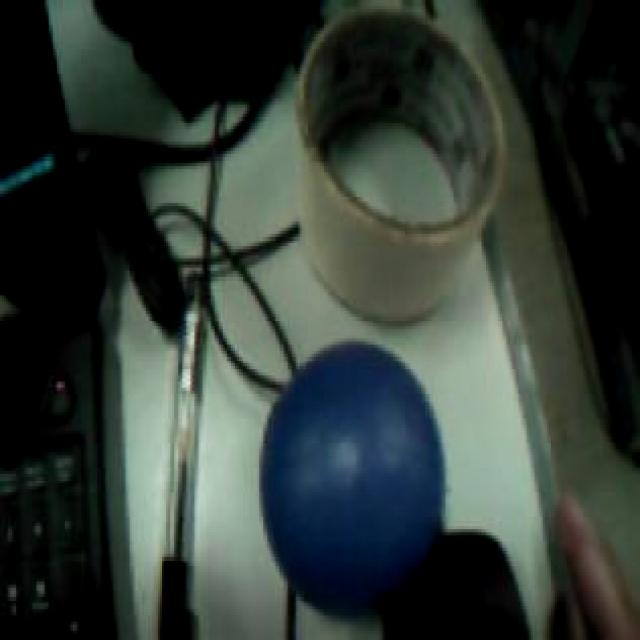BallPurple: (261, 341, 443, 617)
